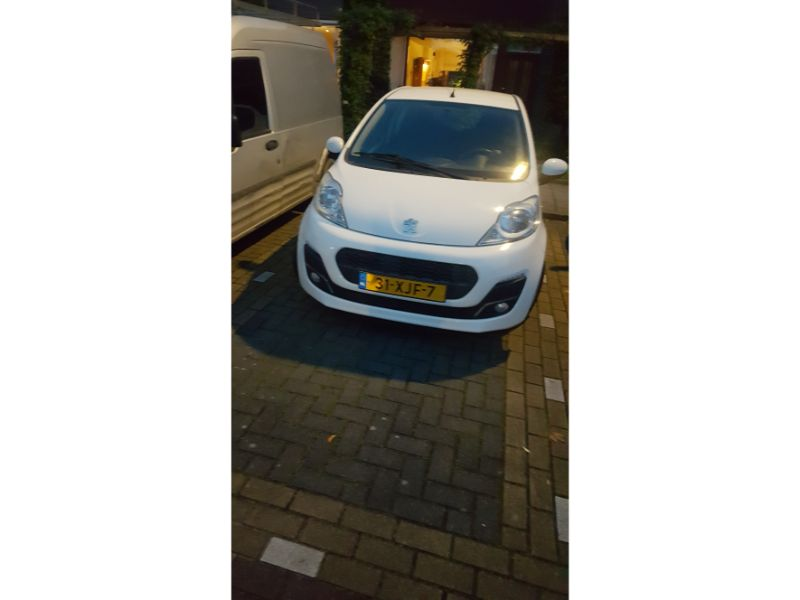kenteken: (356, 268, 446, 309)
